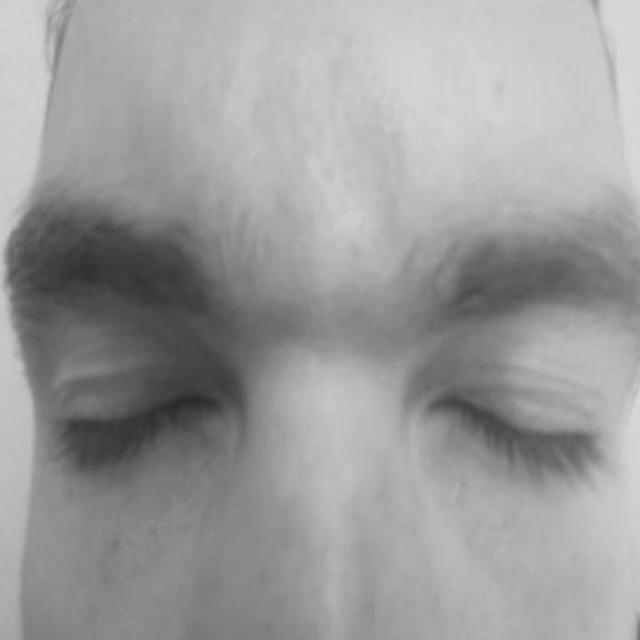real: (31, 261, 621, 528)
